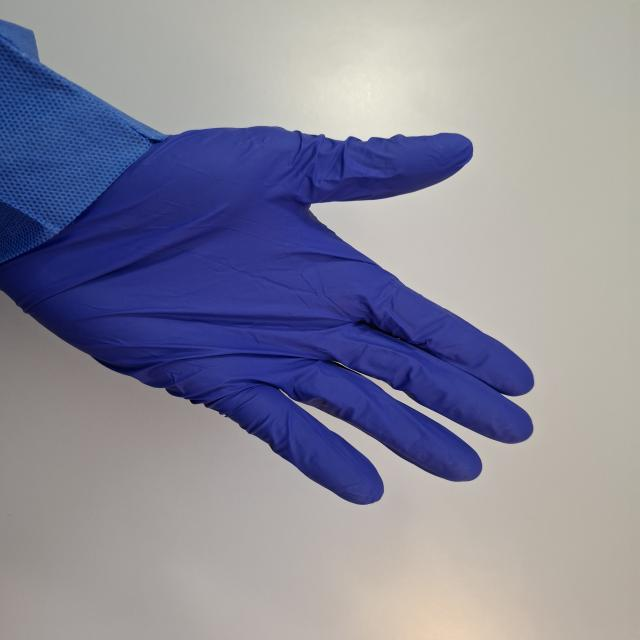glove_on: (2, 122, 538, 508)
